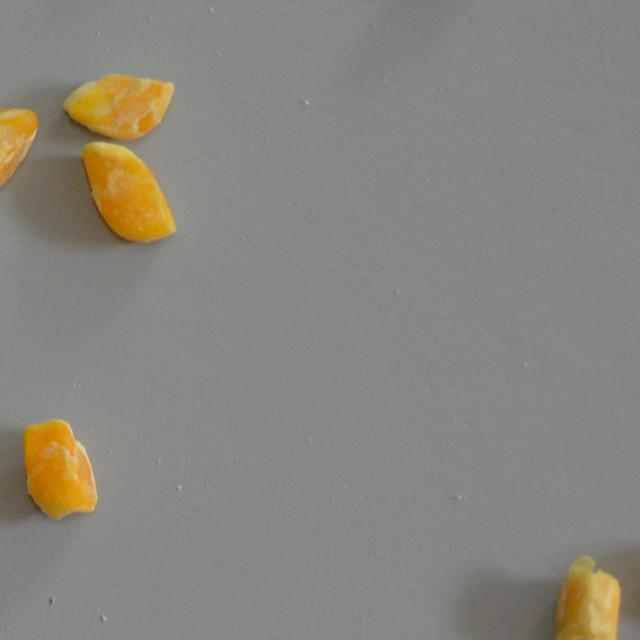dañado: (78, 138, 180, 246), (18, 412, 101, 526), (58, 69, 176, 142), (546, 549, 621, 640)
punto_negro: (0, 104, 38, 205)
